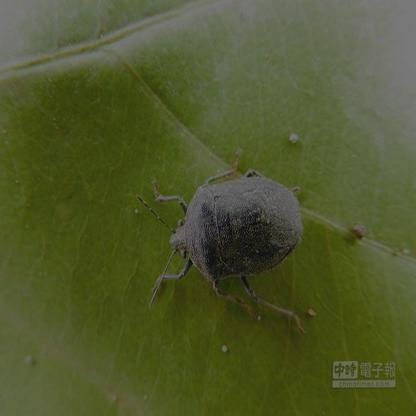rice-bug: (148, 156, 314, 321)
